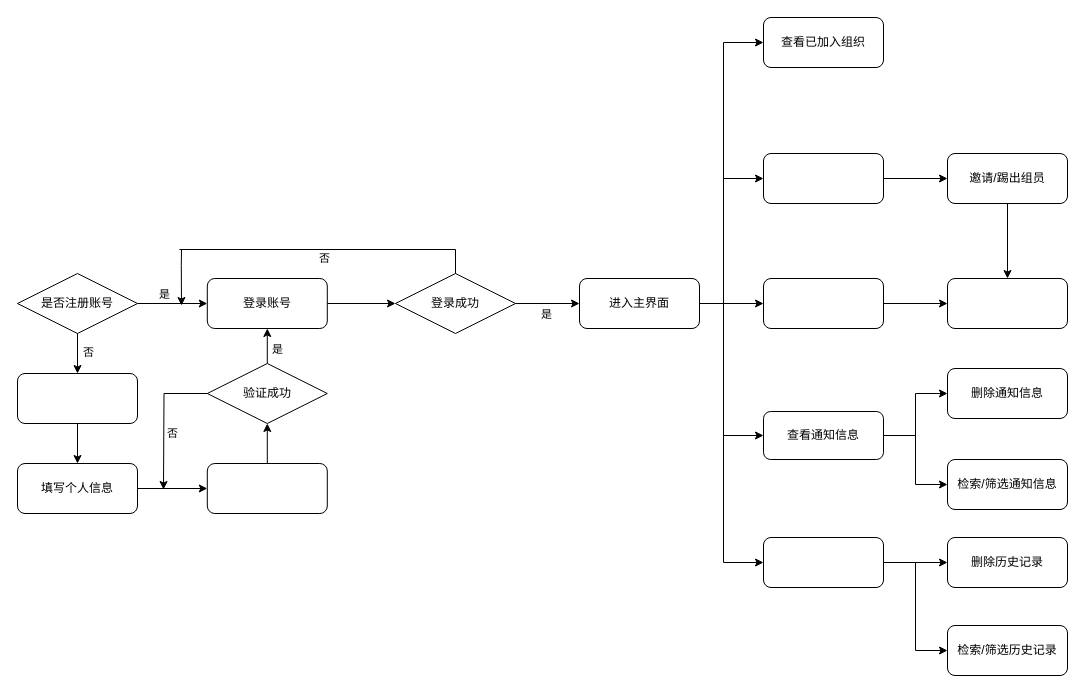
Some shapes in this 1085 by 693 pixel diagram are drawn without their labels. The centre of each missing label's shape, as x and y in pixels:
修改个人信息: pixel 1007 303
创建/管理组织: pixel 823 178
查看个人信息: pixel 823 303
查看历史记录: pixel 823 562
用户是否登: pixel 77 398
邮箱验证: pixel 266 488
